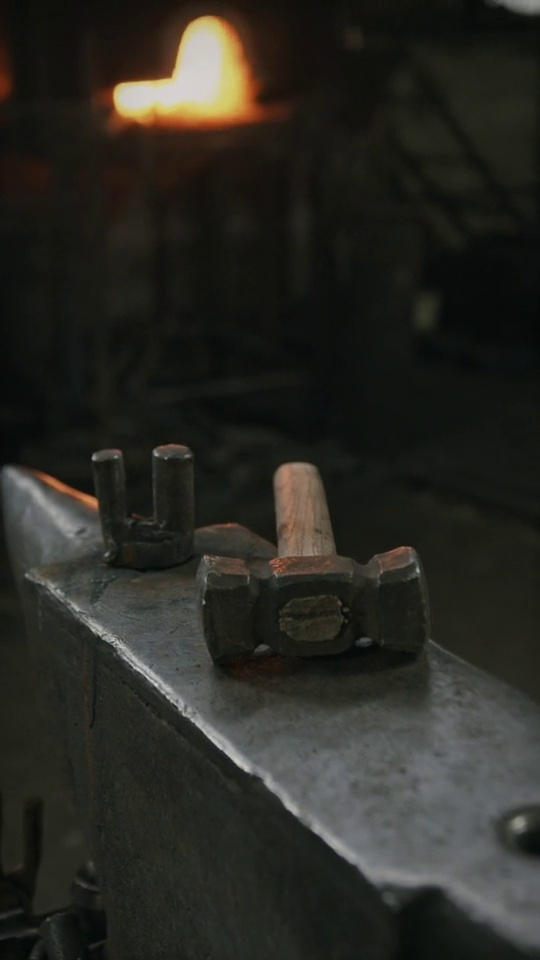hammer: (191, 455, 436, 670)
